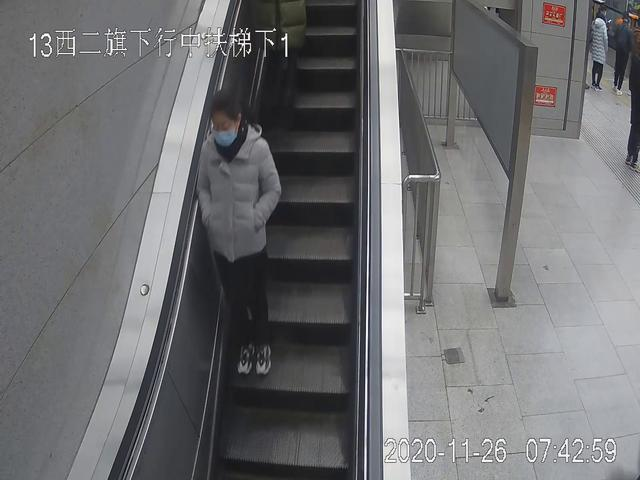person: (193, 94, 280, 375), (589, 11, 610, 91), (609, 17, 630, 95)
